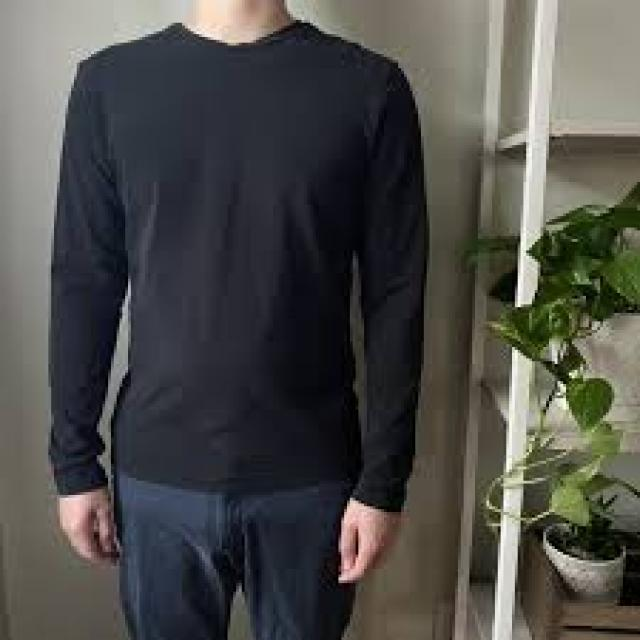plain: (57, 28, 424, 500)
